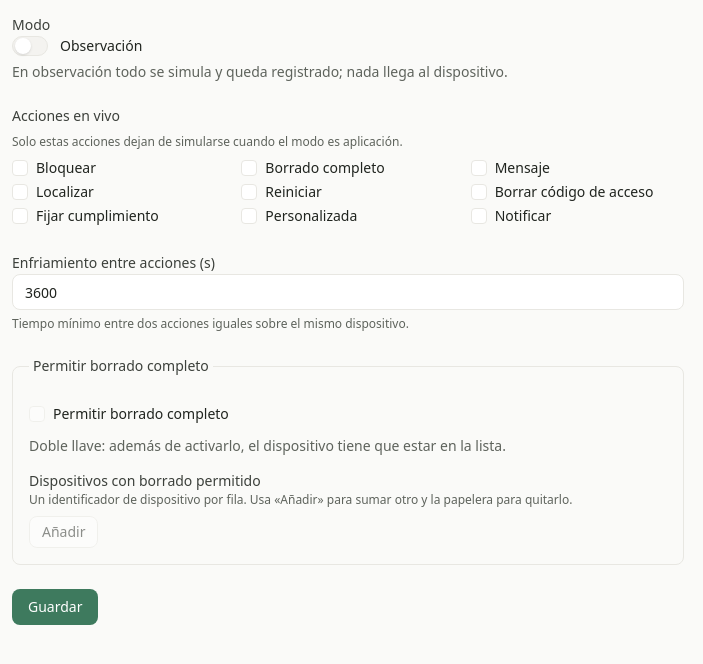
it: vaciar el enfriamiento no lo guarda como 0: muestra el error
Clear the number field labelled "Enfriamiento entre acciones (s)". click: (348, 292)
box: left=12, top=274, right=684, bottom=310
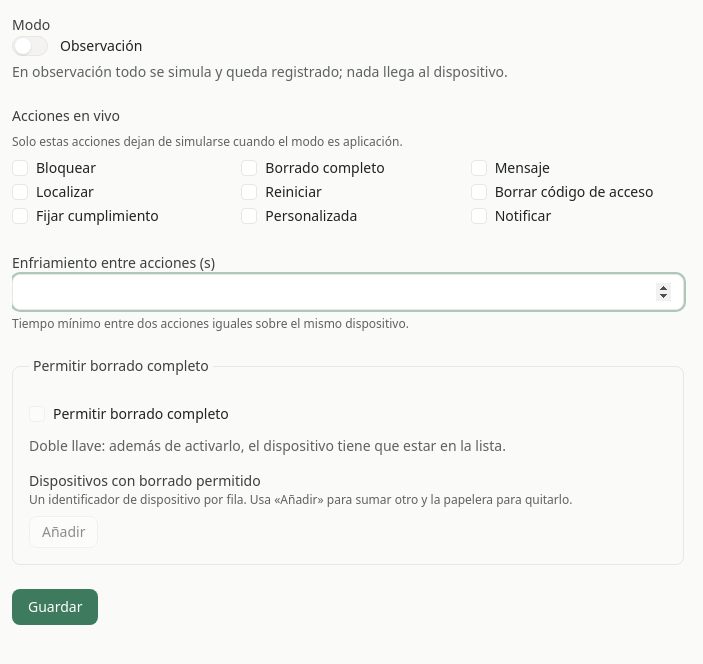
Click the button "Guardar". click: (55, 607)
box: left=12, top=589, right=98, bottom=625
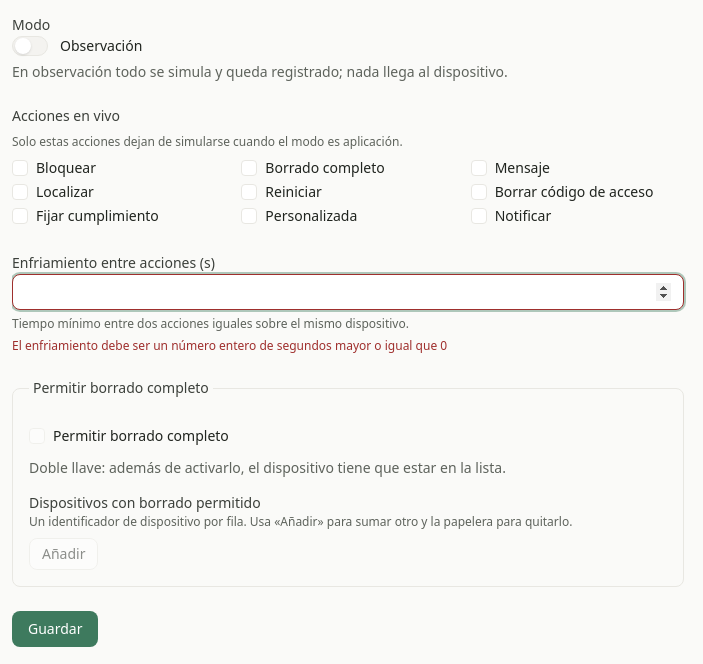
expect the message "El enfriamiento debe ser un número entero de segundos mayor o igual que 0" is shown: met, box left=12, top=337, right=447, bottom=354
